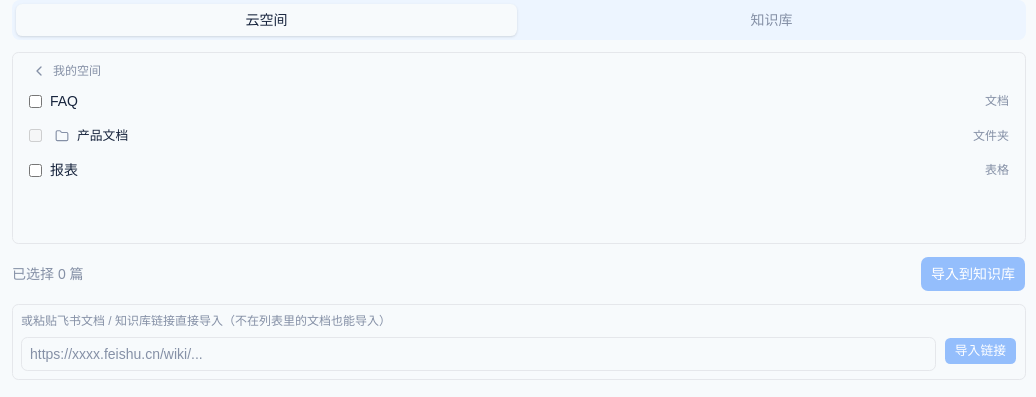
Test case: FeishuDocPicker › auto-loads drive root, allows docx/sheet and counts selection
expect the checkbox named "选择 报表" is enabled: met, box [29,164,42,177]
Click the checkbox named "选择 FAQ": click(36, 101) [29,94,42,108]
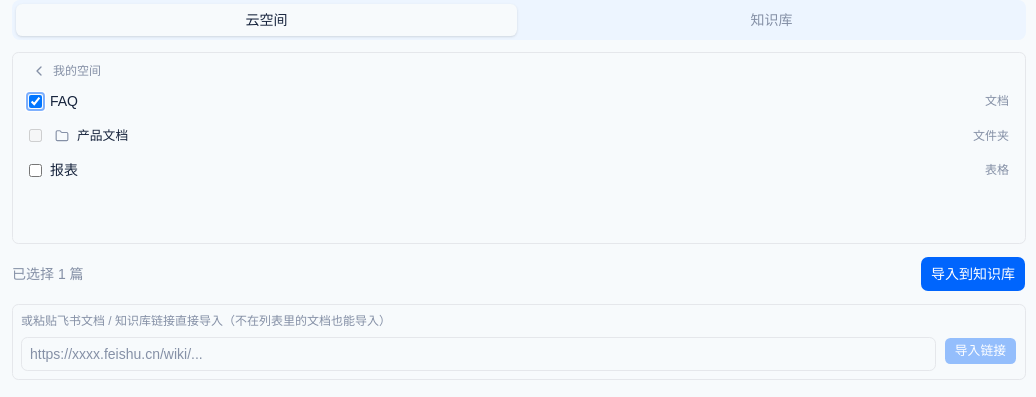
expect the text "已选择 1 篇" is shown: met, box [12,264,84,284]
Click the checkbox named "选择 FAQ": click(36, 101) [29,94,42,108]
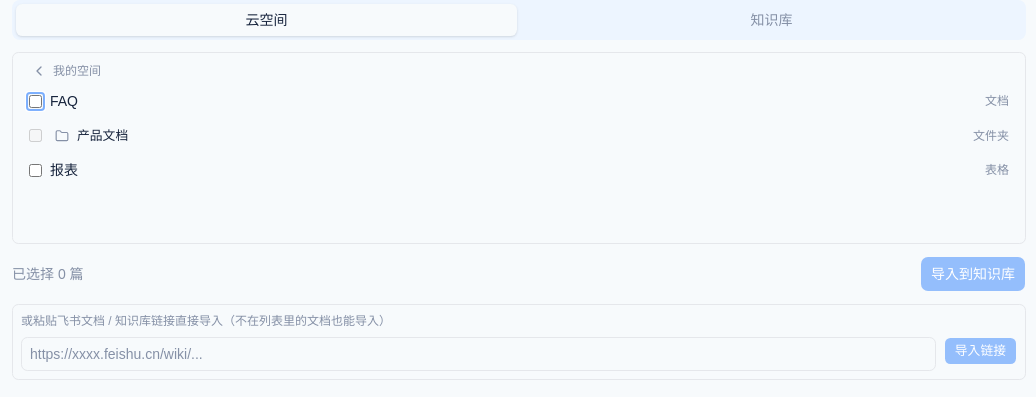
expect the text "已选择 0 篇" is shown: met, box [12,264,84,284]
